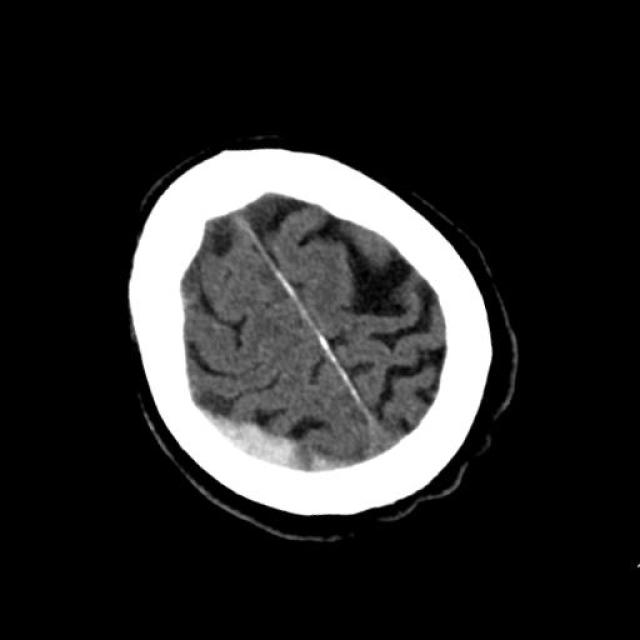Subdural: (179, 374, 357, 545)
